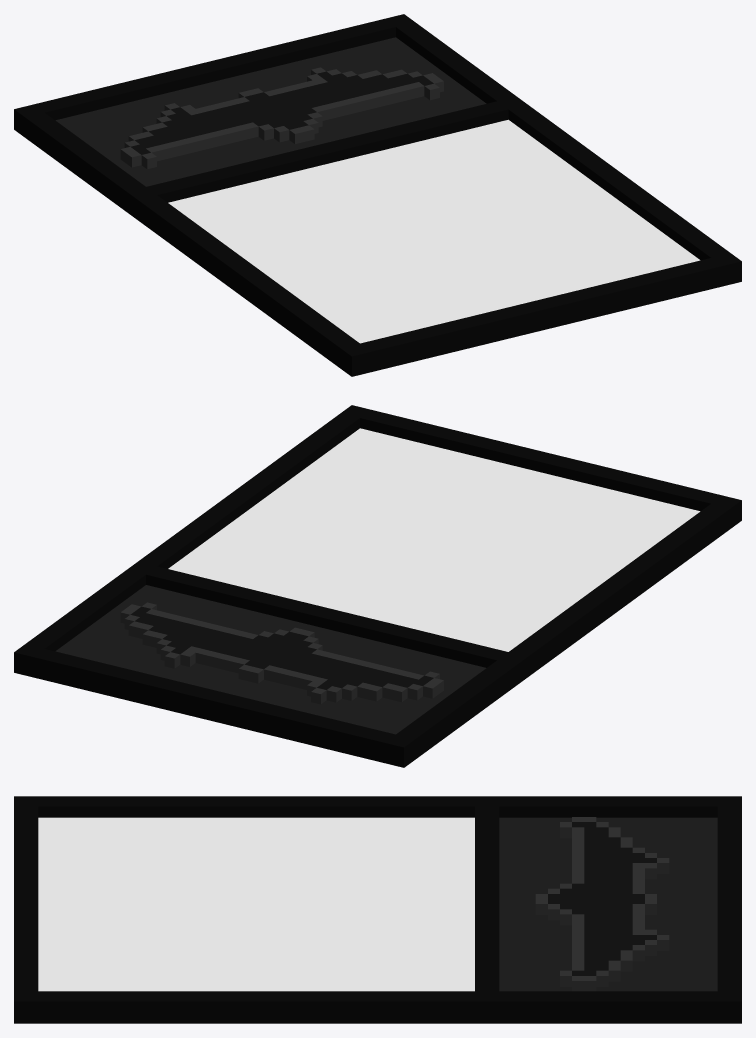
Rendered from tile8.obj.
The picture shows the model from 3 angles, top to bottom: view 1: azimuth 30°, elevation 25°; view 2: azimuth 150°, elevation 25°; view 3: azimuth 270°, elevation 25°; orthographic projection. The views are drawn at different scales.
Size of the model in its own units: 4 by 0.2 by 6.
1 material, 1 textured.
